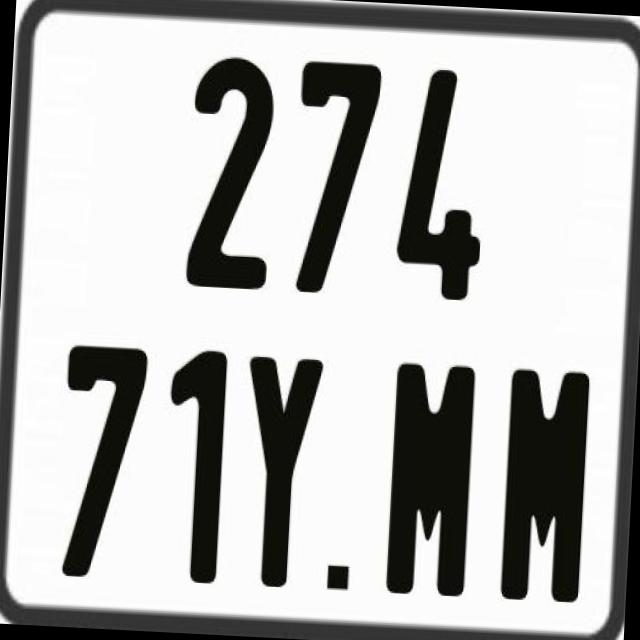1: (157, 346, 225, 582)
2: (182, 54, 274, 290)
4: (392, 68, 489, 307)
7: (288, 61, 387, 297), (54, 344, 149, 588)
M: (384, 361, 480, 598), (498, 364, 588, 598)
Y: (234, 356, 324, 597)
